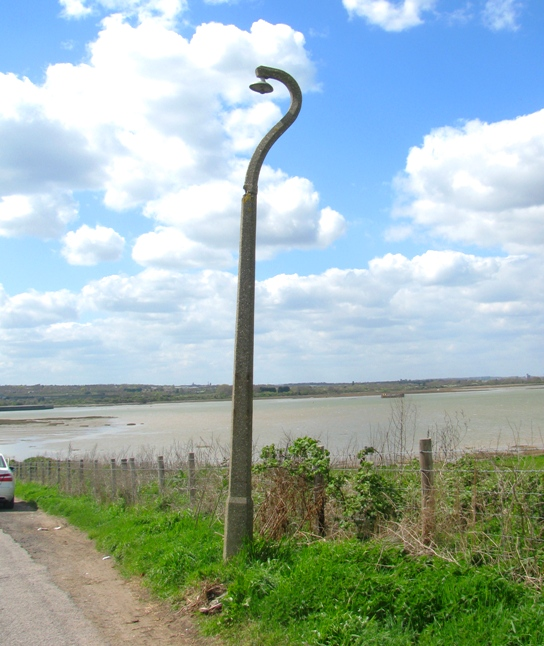light_pole: (218, 144, 270, 576)
